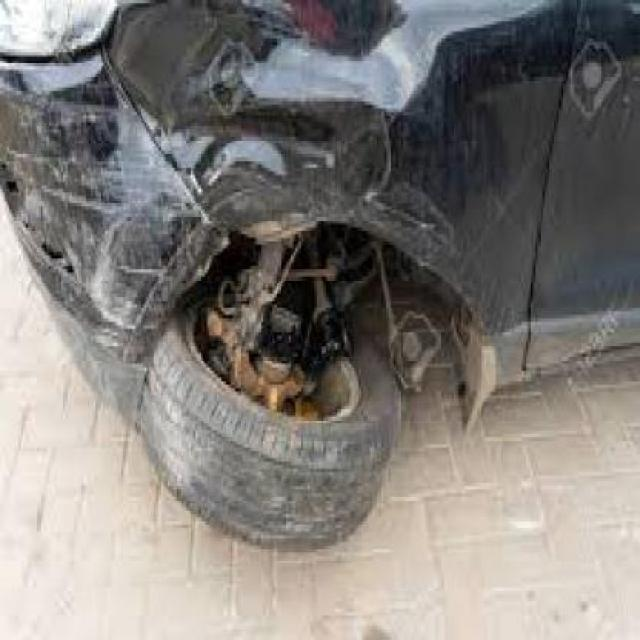damaged-front-bumper: (0, 72, 215, 412)
